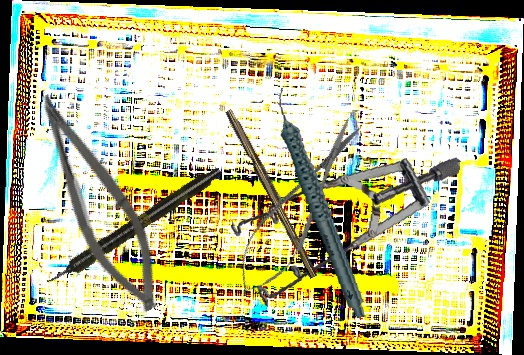Handpiece: (43, 163, 225, 290), (274, 81, 367, 325)
Micro Scissor: (10, 84, 184, 322), (220, 106, 378, 309)
Scalpel Handle: (222, 107, 323, 279)
Speculum: (220, 126, 462, 333)
